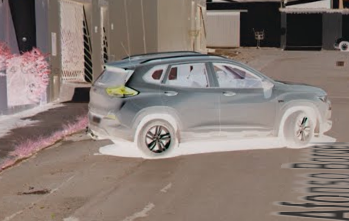car: (86, 39, 338, 162)
